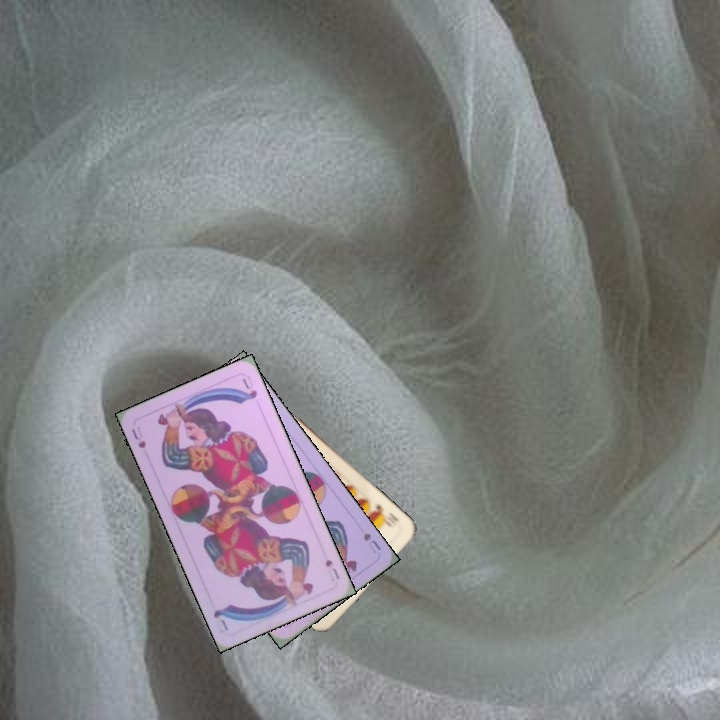E10: (367, 499, 401, 530)
SU: (359, 529, 384, 556), (127, 422, 149, 451), (321, 555, 342, 582)
